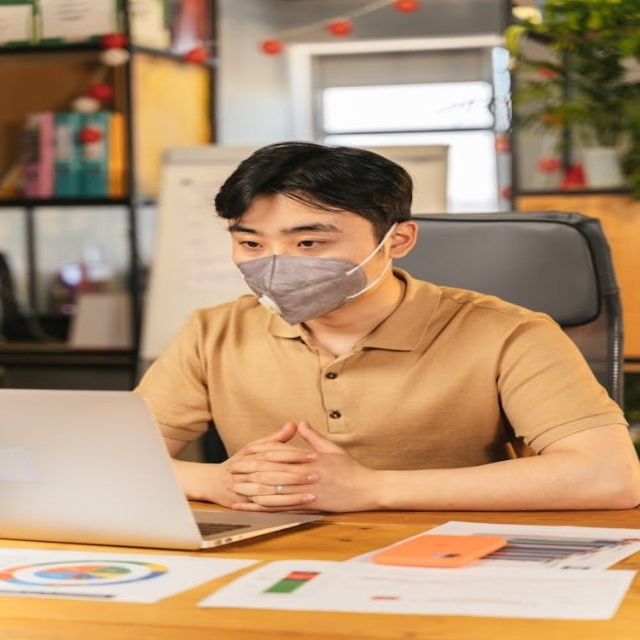Mascara: (238, 225, 390, 326)
Sin_gafas: (230, 223, 339, 254)
Sin_guantes: (217, 418, 335, 513)
